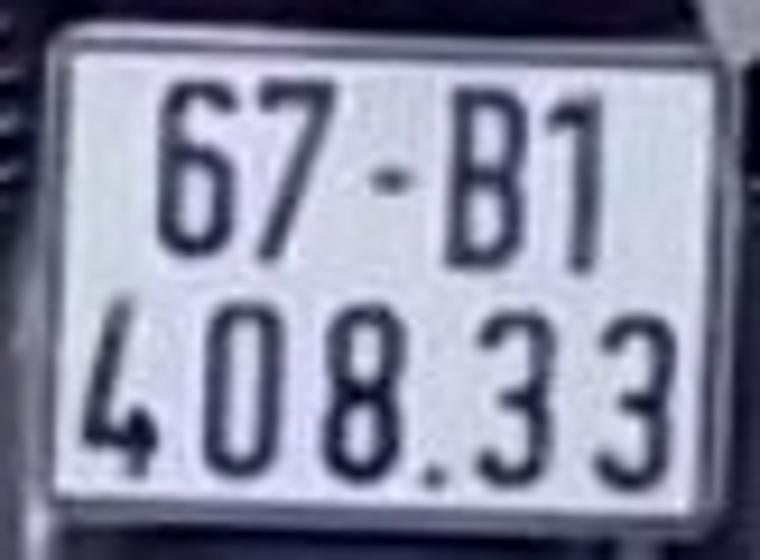-: (359, 165, 413, 199)
.: (417, 458, 452, 496)
0: (197, 295, 285, 480)
1: (537, 82, 610, 276)
3: (472, 306, 561, 493), (593, 303, 677, 494)
4: (77, 287, 164, 484)
6: (155, 73, 238, 262)
7: (247, 71, 345, 267)
8: (321, 301, 412, 488)
B: (444, 77, 529, 271)
